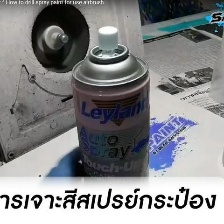aerosol_cans: (66, 23, 155, 219)
